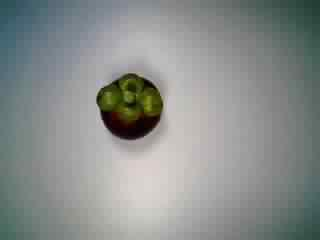mangosteen: (90, 67, 165, 142)
